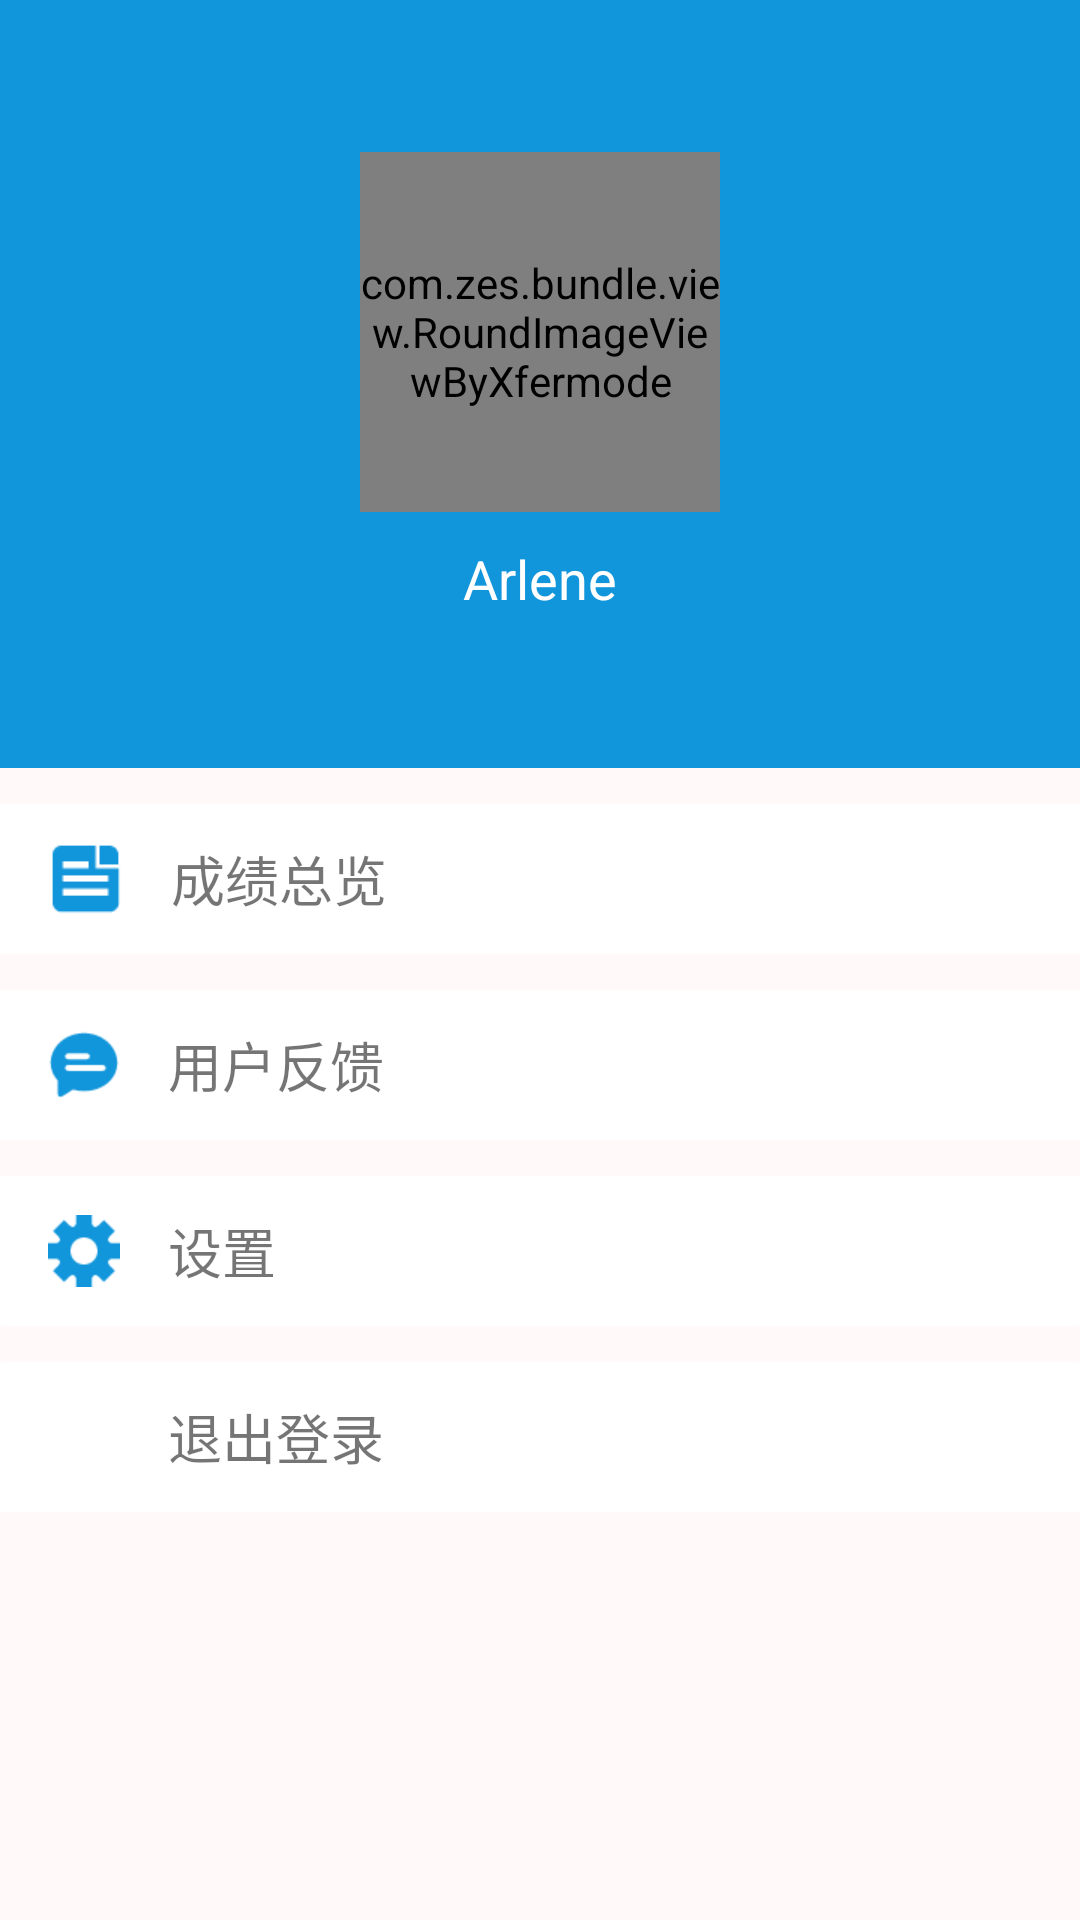

Icons on this 1080×1920 Android screen, each with the point to tap as (x,y):
feed back: (84,1064)
setting: (84,1251)
